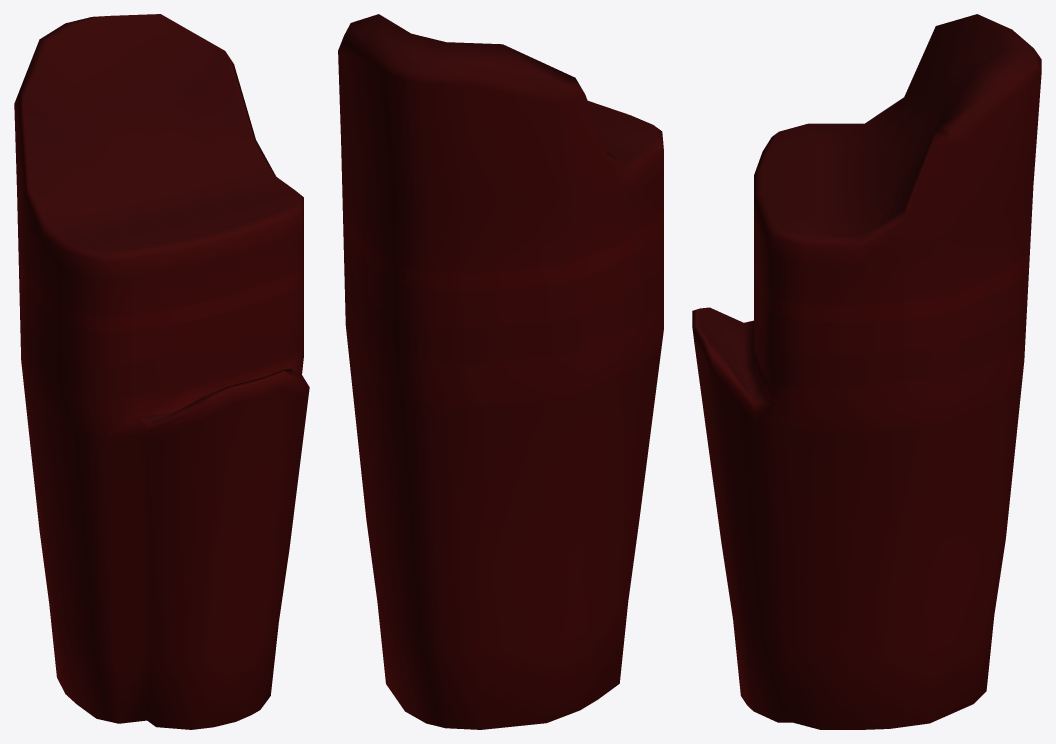
File: geology-landforms-alienpillar_v6.fbx
3 views of the same model, side by side, from view 1: azimuth 30°, elevation 25°; view 2: azimuth 150°, elevation 25°; view 3: azimuth 270°, elevation 25° (orthographic). The views are drawn at different scales.
Parts seen in each view (by area): view 1: AlienPillar_v6; view 2: AlienPillar_v6; view 3: AlienPillar_v6.
Part boxes in pixels (<box>): AlienPillar_v6: <box>14,14,309,729</box>; AlienPillar_v6: <box>338,14,663,729</box>; AlienPillar_v6: <box>692,14,1041,729</box>.
Bounding box in the file's own units: 17.74 × 44.73 × 21.96.
